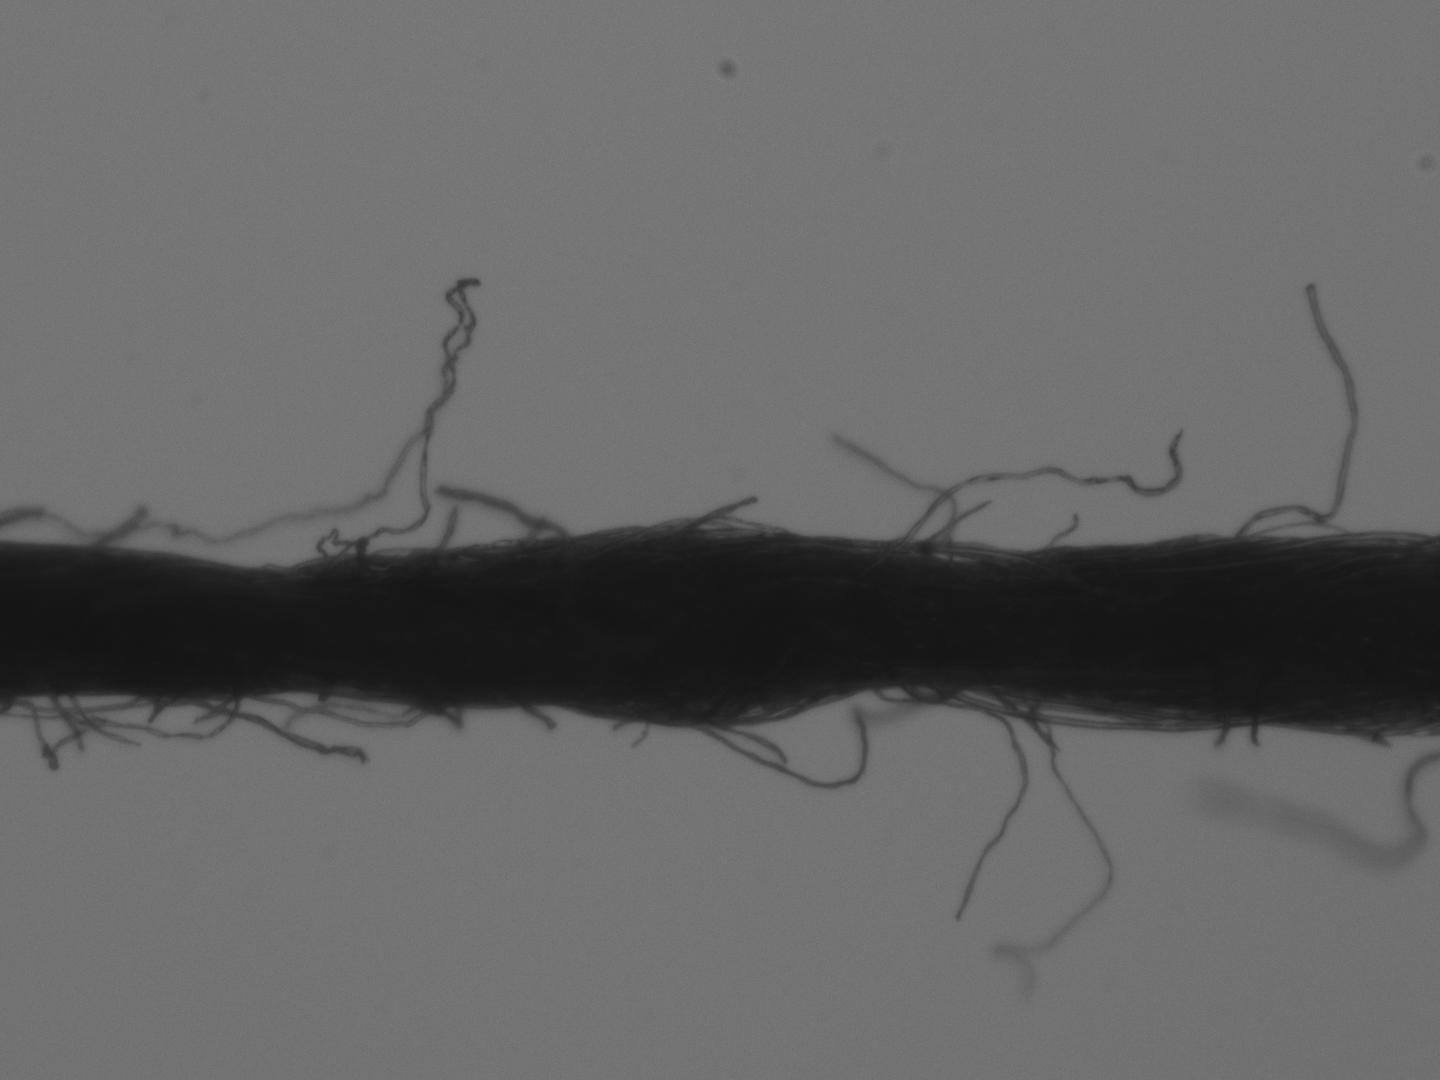loop_fiber: (965, 686, 1254, 732), (68, 691, 234, 742), (254, 695, 432, 726), (892, 540, 1030, 567), (1294, 712, 1425, 740), (12, 693, 145, 715), (315, 526, 364, 573), (900, 686, 967, 709)
protruding_fiber: (891, 428, 1187, 557), (1230, 286, 1358, 540), (932, 683, 1025, 921), (686, 708, 871, 792), (189, 702, 366, 767), (435, 482, 569, 545), (713, 724, 789, 763)
